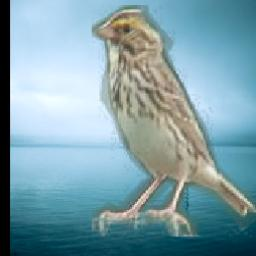Sparrow: (92, 6, 256, 238)
